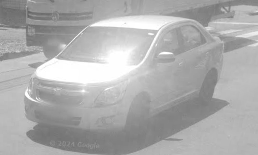car: (23, 16, 222, 135)
